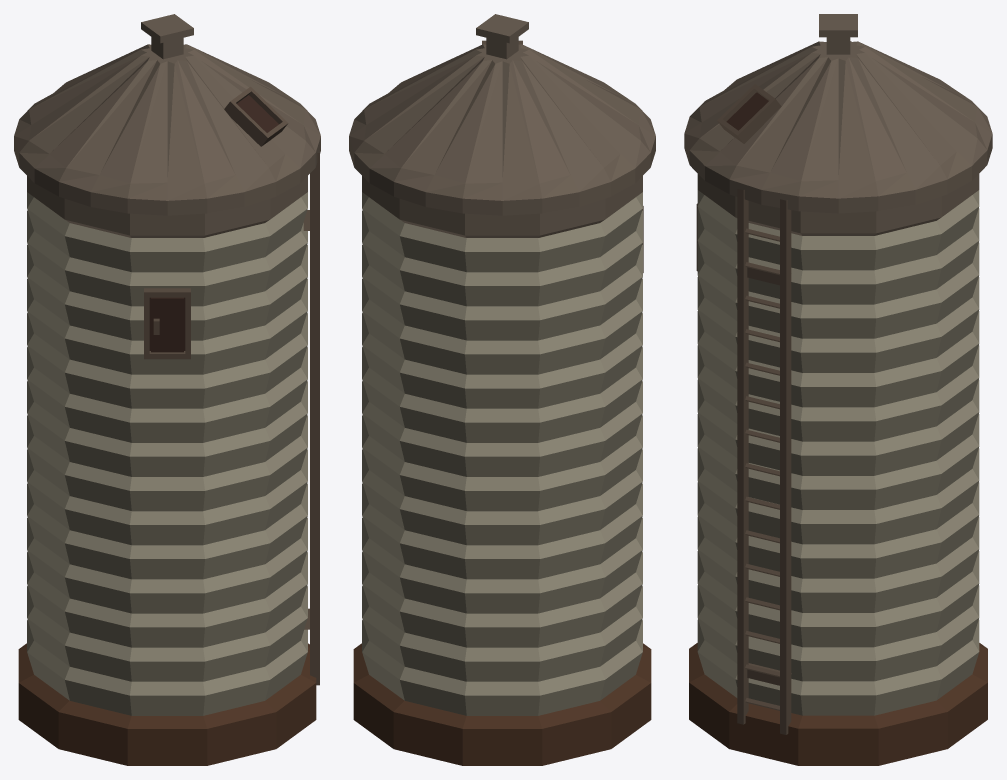
The model's file is grain-silo-58ca67.glb.
3 views of the same model, side by side, from view 1: azimuth 30°, elevation 25°; view 2: azimuth 150°, elevation 25°; view 3: azimuth 270°, elevation 25° (orthographic).
Parts seen in each view (by area): view 1: silo, ladder-mesh, hatch-leaf; view 2: silo; view 3: silo, ladder-mesh.
Boxes of the visible parts, box(x1,y1,x2,y2) form: silo: box(14, 14, 320, 765); ladder-mesh: box(303, 153, 319, 685); hatch-leaf: box(151, 297, 183, 352); silo: box(349, 14, 655, 765); silo: box(684, 14, 992, 765); ladder-mesh: box(737, 189, 791, 734).
Bounding box in the file's own units: 3 × 7.31 × 3.
